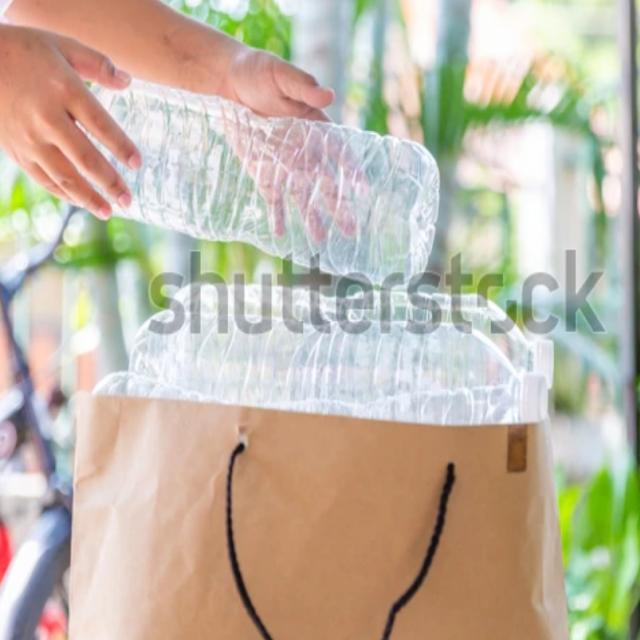paper: (84, 413, 523, 640)
plastic: (144, 93, 453, 272), (143, 282, 534, 417)
